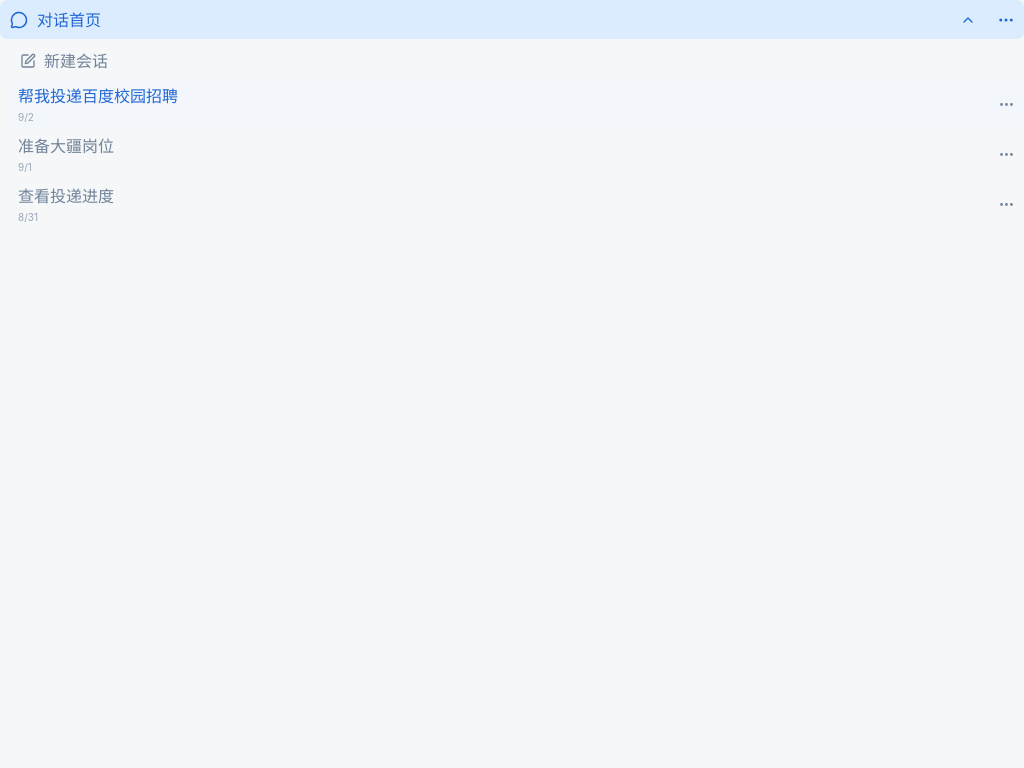
Test case: ConversationNavigation › closes menus and dialogs with cancel or Escape
Click the button named "对话首页更多操作": [1006, 20] box 988,0 -> 1023,39
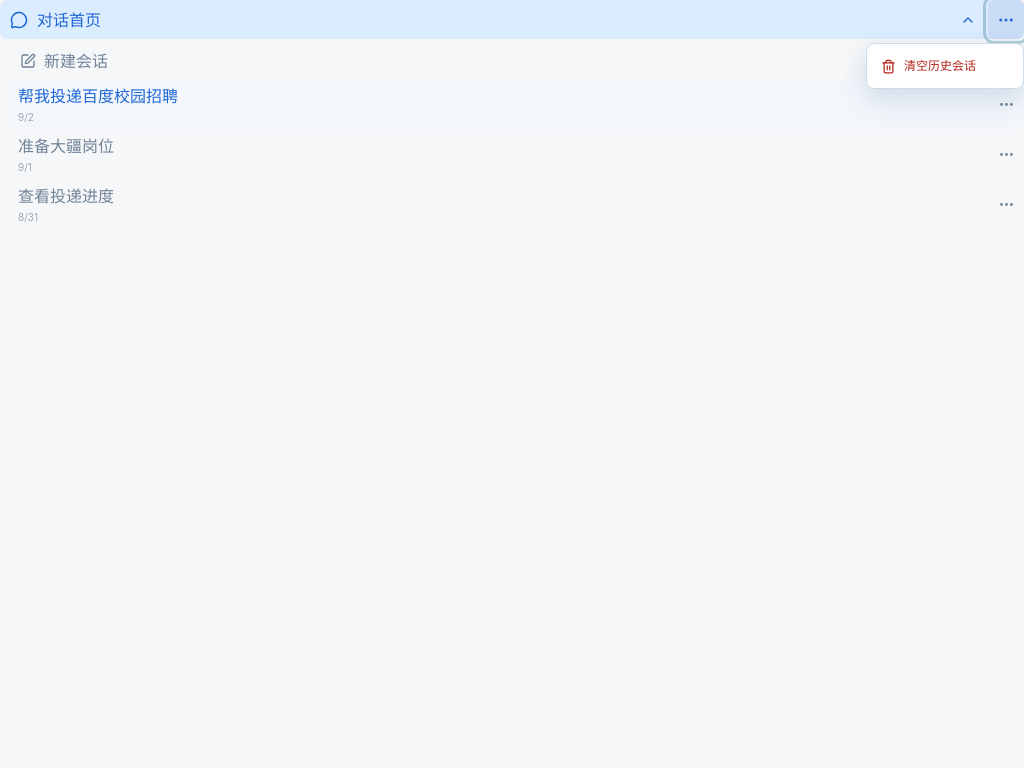
Result: the menu is shown at 866,43 -> 1023,89
Press Escape
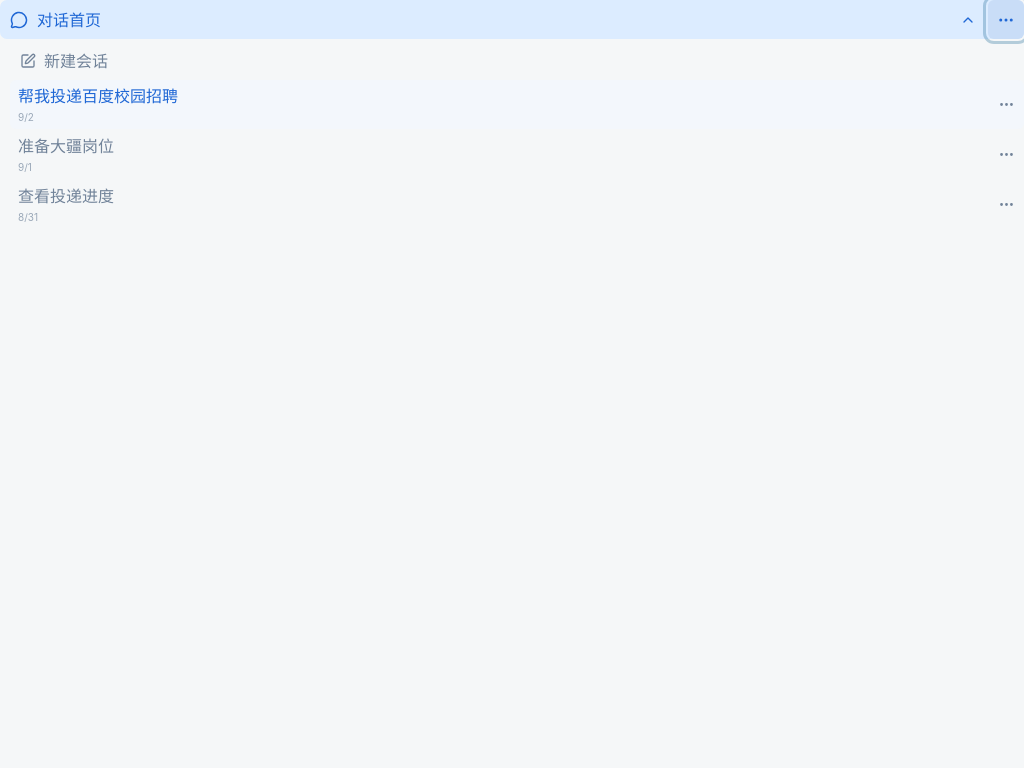
Result: the menu is gone
Click the button named "对话首页更多操作": [1006, 20] box 988,0 -> 1023,39
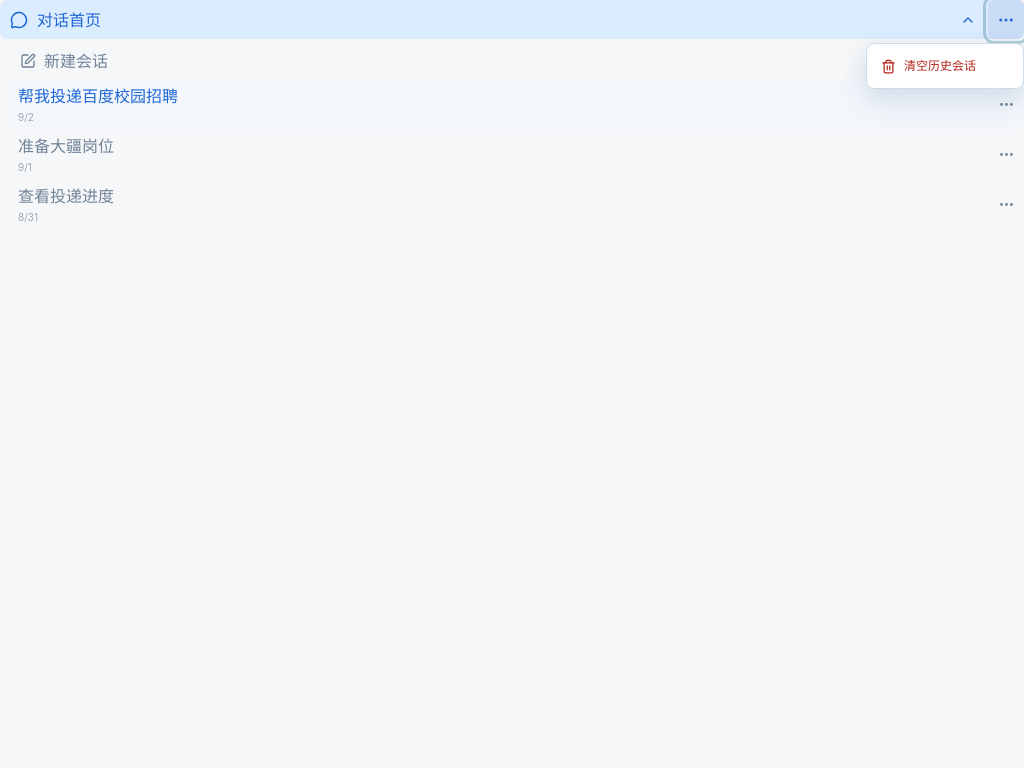
Click the menu item "清空历史会话": [945, 66] box 872,49 -> 1018,83
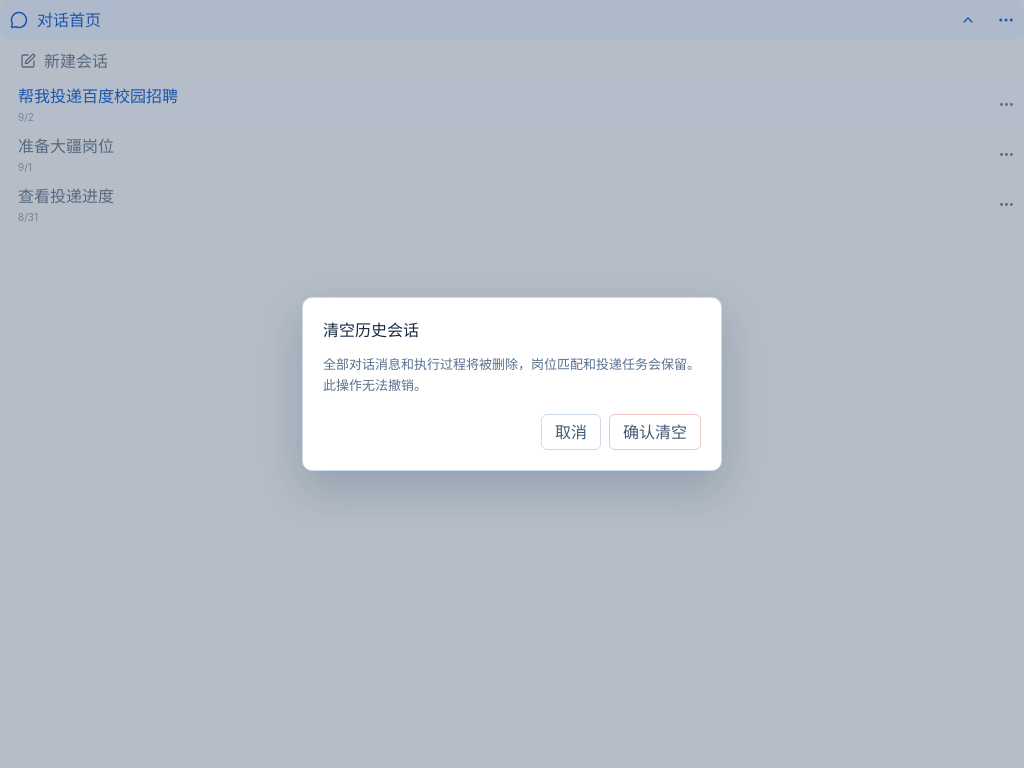
Result: the dialog is shown at 302,297 -> 722,471
Press Escape
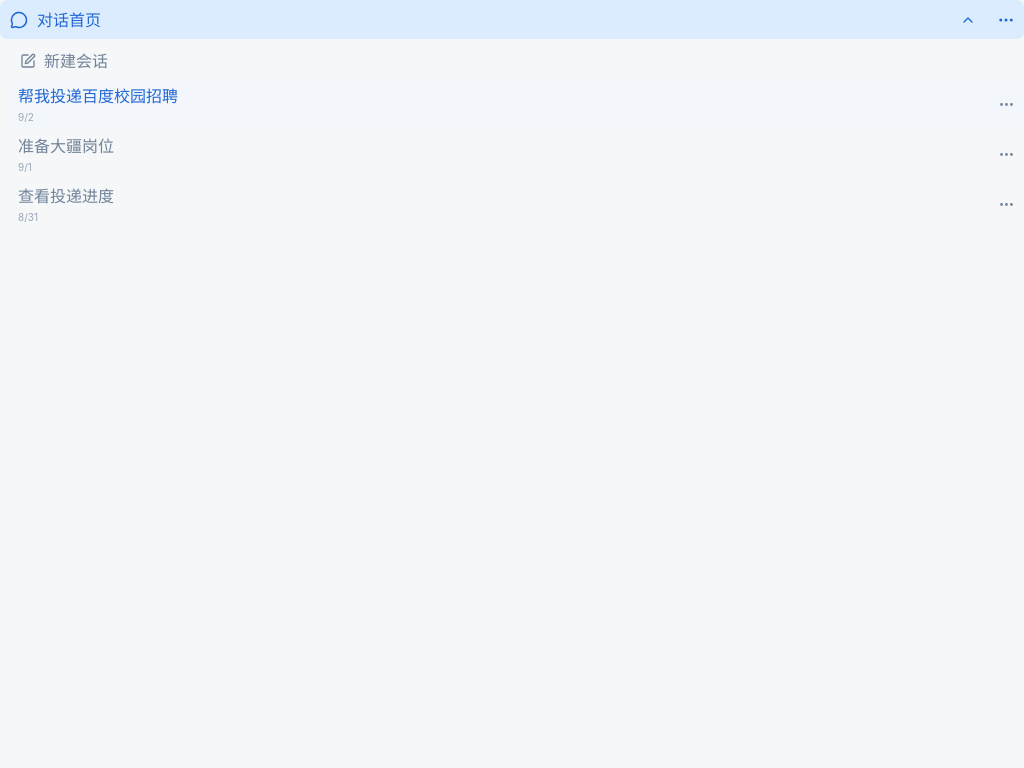
Result: the dialog is gone
